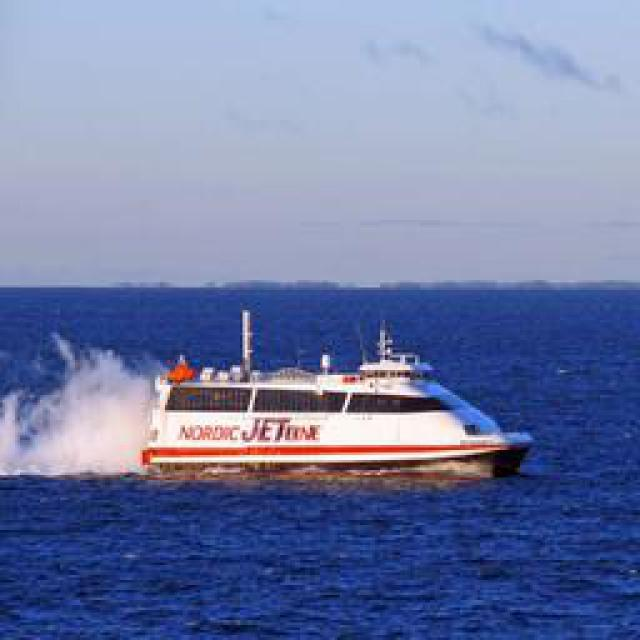Ship: (150, 314, 528, 477)
